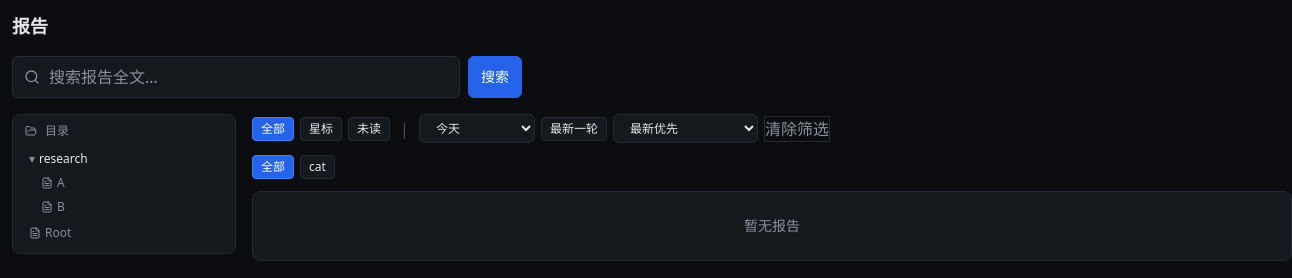
Test case: Reports tree state › restores the collapsed state of the tree panel
Expected: the text "research" is shown, [39,151,88,167]
Click the button "目录": [124, 131] box [13,115,235,147]
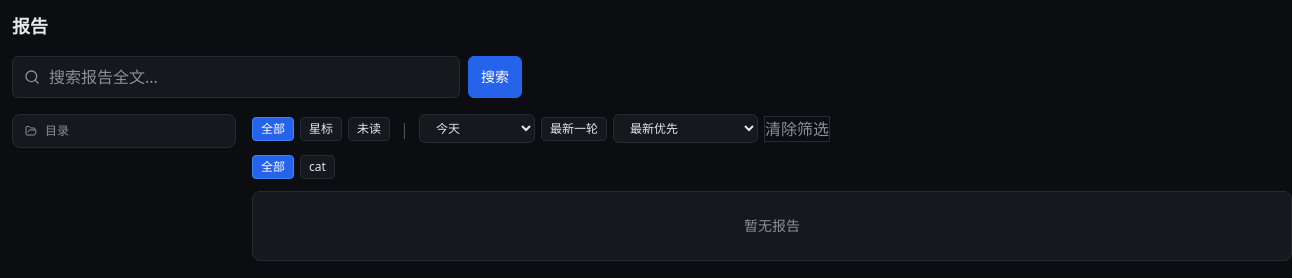
Expected: the button "research" is gone
